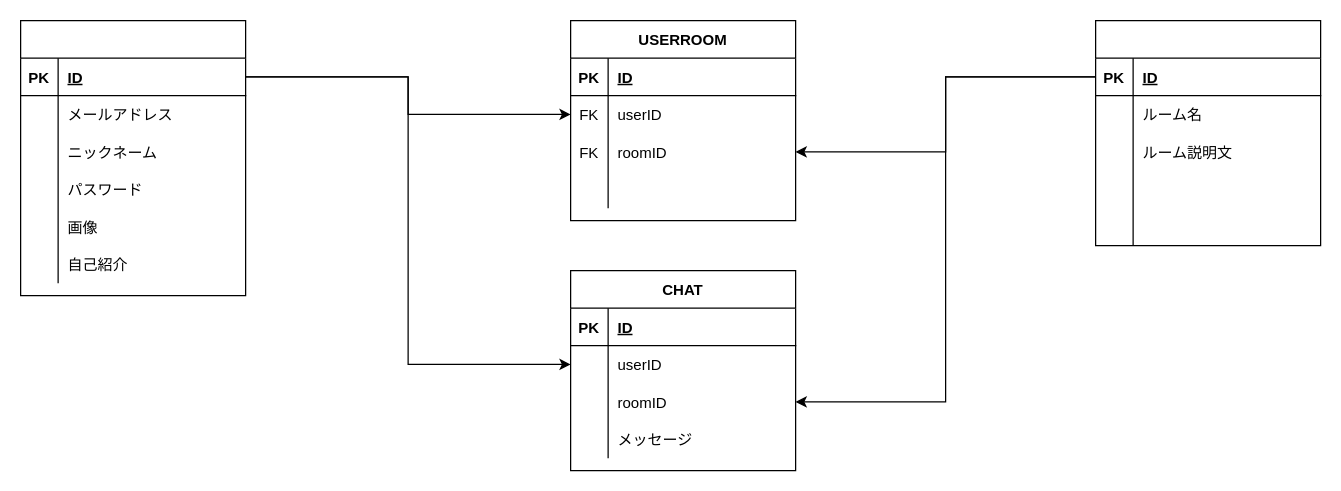
Some shapes in this 1341 by 491 pixel diagram are drawn without their labels. Each missing label, with the box of its shape:
ROOM: (1094, 19, 1321, 246)
USER: (19, 19, 246, 296)
